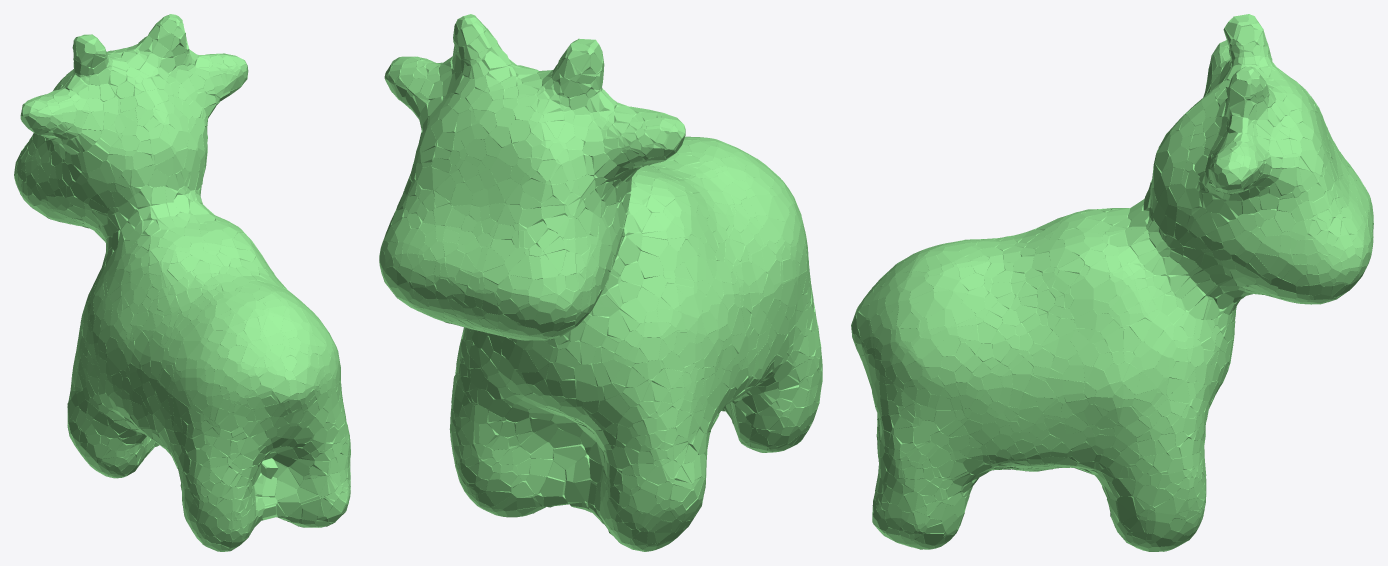
The model's file is cow_0.5pct_vorolight.glb.
The picture shows the model from 3 angles, left to right: view 1: azimuth 30°, elevation 25°; view 2: azimuth 150°, elevation 25°; view 3: azimuth 270°, elevation 25°; orthographic projection. The views are drawn at different scales.
Parts seen in each view (by area): view 1: shape50_normal10_cow_noise_0.5pct_polygon.obj; view 2: shape50_normal10_cow_noise_0.5pct_polygon.obj; view 3: shape50_normal10_cow_noise_0.5pct_polygon.obj.
Part boxes in pixels (<box>): shape50_normal10_cow_noise_0.5pct_polygon.obj: <box>14,14,350,551</box>; shape50_normal10_cow_noise_0.5pct_polygon.obj: <box>379,14,822,551</box>; shape50_normal10_cow_noise_0.5pct_polygon.obj: <box>851,14,1373,551</box>.
Size of the model in its own units: 0.774 by 1.35 by 1.33.
